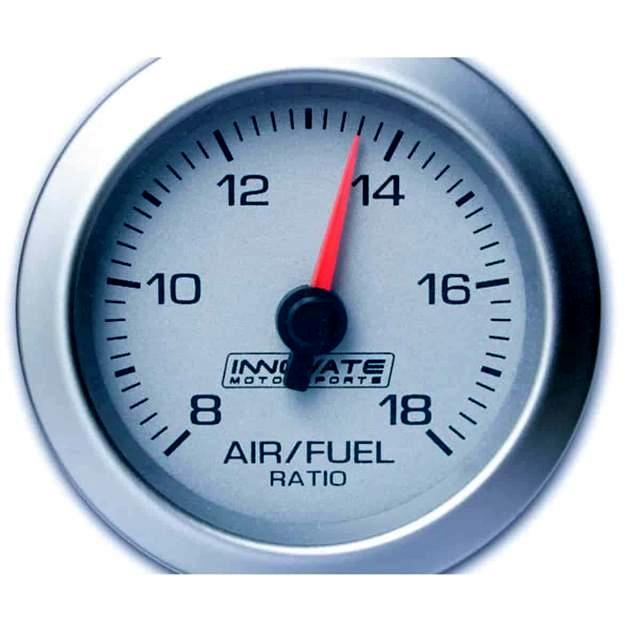Needle_Tip: (328, 123, 385, 171)
Needle_base: (259, 283, 365, 361)
max_value: (382, 371, 456, 443)
min_value: (176, 385, 241, 443)
